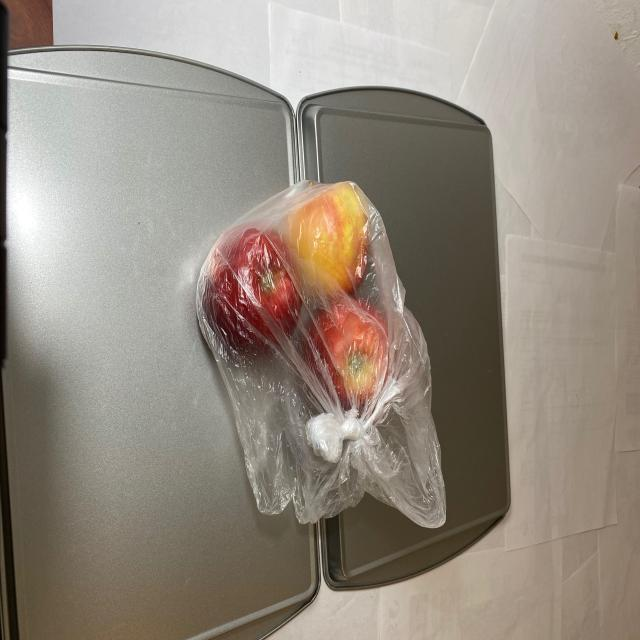apple: (190, 178, 401, 417)
